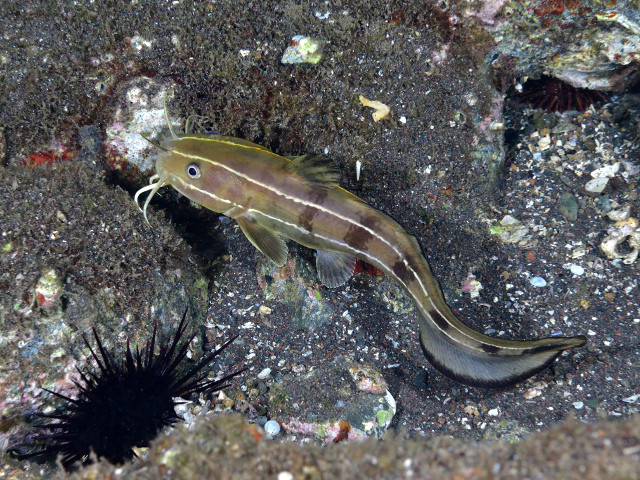gonzui: (135, 93, 603, 393)
